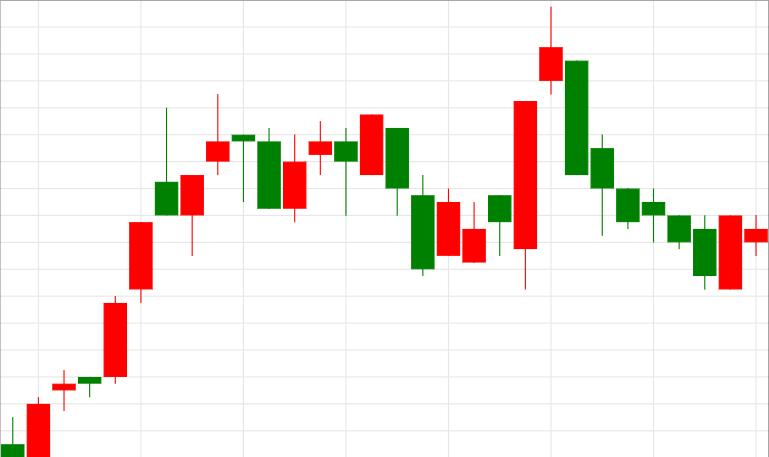bullish_engulfing_rise: (566, 61, 742, 291)
evening_star_fall: (28, 95, 280, 456)
shooting_star_fall: (27, 108, 177, 457), (437, 6, 562, 290)
